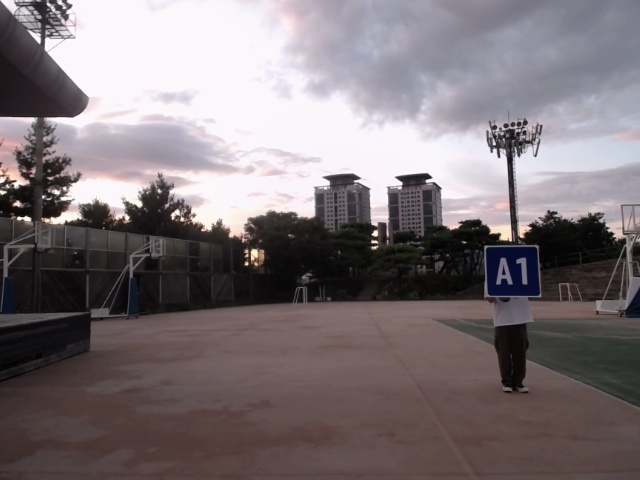delivery_a1: (485, 245, 541, 297)
